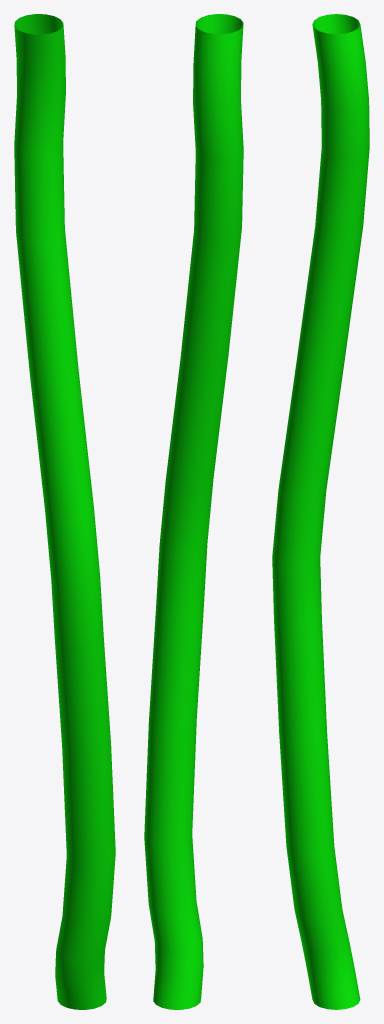
Rendered from wire_fixed_3.gltf.
The picture shows the model from 3 angles, left to right: view 1: azimuth 30°, elevation 25°; view 2: azimuth 210°, elevation 25°; view 3: azimuth 270°, elevation 25°; orthographic projection. The views are drawn at different scales.
Parts seen in each view (by area): view 1: wire_fixed_3c; view 2: wire_fixed_3c; view 3: wire_fixed_3c.
Part boxes in pixels (box(x1,y1,x2,y2)): wire_fixed_3c: box(14, 14, 115, 1009); wire_fixed_3c: box(144, 14, 243, 1009); wire_fixed_3c: box(272, 14, 369, 1009).
Bounding box in the file's own units: 0.1432 × 1.56 × 0.1448.
